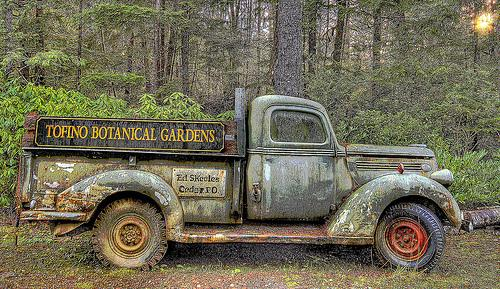truck: (16, 85, 462, 273)
